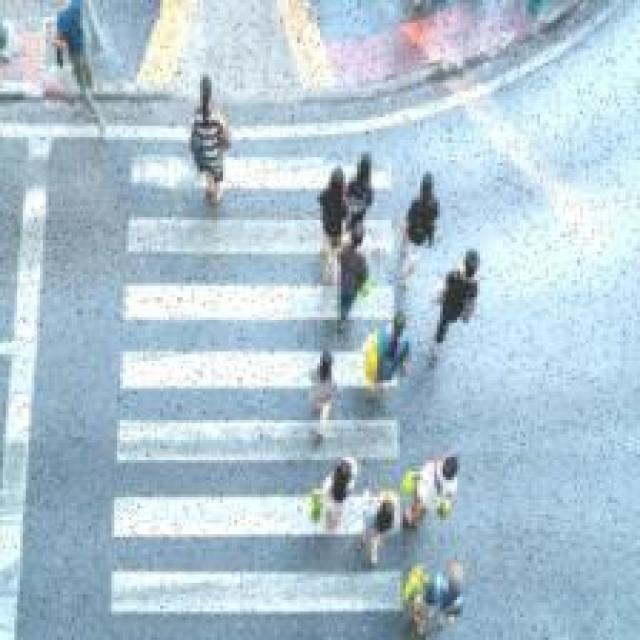walk-crossing: (81, 90, 453, 639)
